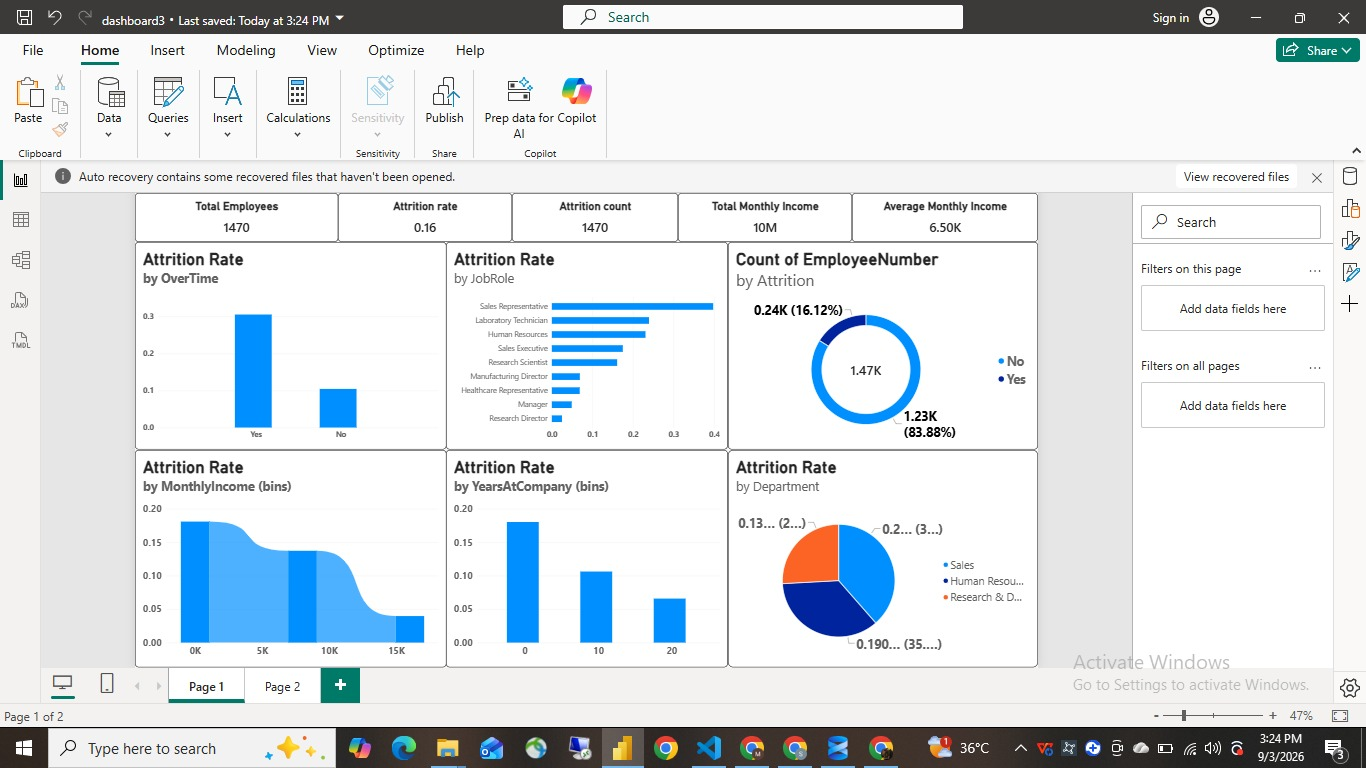

This screenshot's page, from the dashboard's own definition file:
{"tool":"powerbi","page":{"name":"Page 1","canvas":[1920,1080],"ordinal":0},"visuals":[{"type":"ribbonChart","fields":{"Category":["HR_Analytics.MonthlyIncome (bins)"],"Y":["HR_Analytics.Attrition Rate"]},"box":[0,616.6,662.2,462.5],"z":0},{"type":"columnChart","fields":{"Category":["HR_Analytics.YearsAtCompany (bins)"],"Y":["HR_Analytics.Attrition Rate"]},"box":[662.2,616.6,599.1,462.5],"z":1000},{"type":"columnChart","fields":{"Category":["HR_Analytics.OverTime"],"Y":["HR_Analytics.Attrition Rate"]},"box":[0,175.2,662.2,441.5],"z":2000},{"type":"card","title":"Total Employees","fields":{"Values":["CountNonNull(HR_Analytics.EmployeeNumber)"]},"box":[0,70.2,431.6,104.2],"z":3000},{"type":"card","title":"Attrition rate","fields":{"Values":["HR_Analytics.Attrition Rate"]},"box":[431.6,70.2,369.9,104.2],"z":4000},{"type":"card","title":"Attrition count","fields":{"Values":["CountNonNull(HR_Analytics.Attrition)"]},"box":[801.5,70.2,352.9,104.2],"z":5000},{"type":"donutChart","fields":{"Category":["HR_Analytics.Attrition"],"Y":["CountNonNull(HR_Analytics.EmployeeNumber)"]},"box":[1261.3,175.2,658.7,441.5],"z":6000},{"type":"pieChart","fields":{"Category":["HR_Analytics.Department"],"Y":["HR_Analytics.Attrition Rate"]},"box":[1261.3,616.6,658.7,462.5],"z":7000},{"type":"clusteredBarChart","fields":{"Category":["HR_Analytics.JobRole"],"Y":["HR_Analytics.Attrition Rate"]},"box":[662.2,175.2,599.1,441.5],"z":8000},{"type":"card","title":"Total Monthly Income","fields":{"Values":["Sum(HR_Analytics.MonthlyIncome)"]},"box":[1154.4,70.2,369.9,104.2],"z":8001},{"type":"card","title":"Average Monthly Income","fields":{"Values":["Avg(HR_Analytics.MonthlyIncome)"]},"box":[1524.3,70.2,395.4,104.2],"z":8003}]}

Visuals, with their boxes on the page's 1920x1080 design canvas (x1, y1, x2, y2). These are canvas units, not pixel positions in the 1366x768 screenshot, which may show the page scaled, cropped or inside an application window:
ribbonChart - HR_Analytics.MonthlyIncome (bins) x HR_Analytics.Attrition Rate: bbox=[0, 617, 662, 1079]
columnChart - HR_Analytics.YearsAtCompany (bins) x HR_Analytics.Attrition Rate: bbox=[662, 617, 1261, 1079]
columnChart - HR_Analytics.OverTime x HR_Analytics.Attrition Rate: bbox=[0, 175, 662, 617]
"Total Employees" card: bbox=[0, 70, 432, 174]
"Attrition rate" card: bbox=[432, 70, 802, 174]
"Attrition count" card: bbox=[802, 70, 1154, 174]
donutChart - HR_Analytics.Attrition x CountNonNull(HR_Analytics.EmployeeNumber): bbox=[1261, 175, 1920, 617]
pieChart - HR_Analytics.Department x HR_Analytics.Attrition Rate: bbox=[1261, 617, 1920, 1079]
clusteredBarChart - HR_Analytics.JobRole x HR_Analytics.Attrition Rate: bbox=[662, 175, 1261, 617]
"Total Monthly Income" card: bbox=[1154, 70, 1524, 174]
"Average Monthly Income" card: bbox=[1524, 70, 1920, 174]
